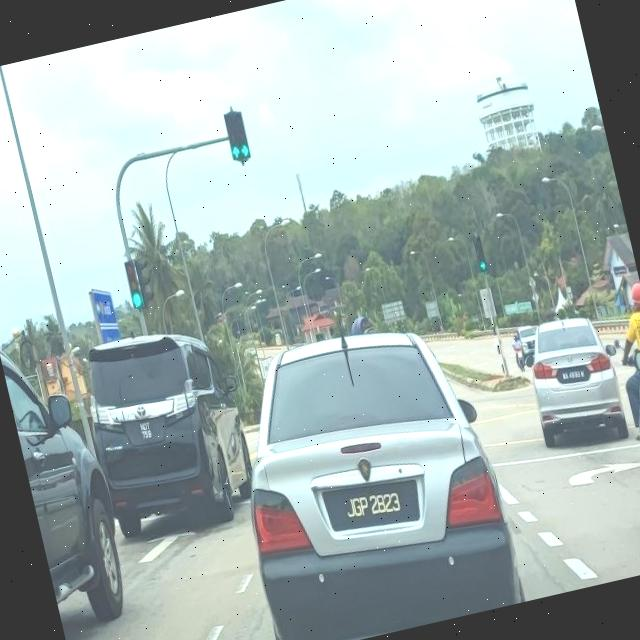green_light: (122, 258, 144, 309), (231, 109, 252, 159), (222, 110, 242, 160), (472, 234, 488, 272)
